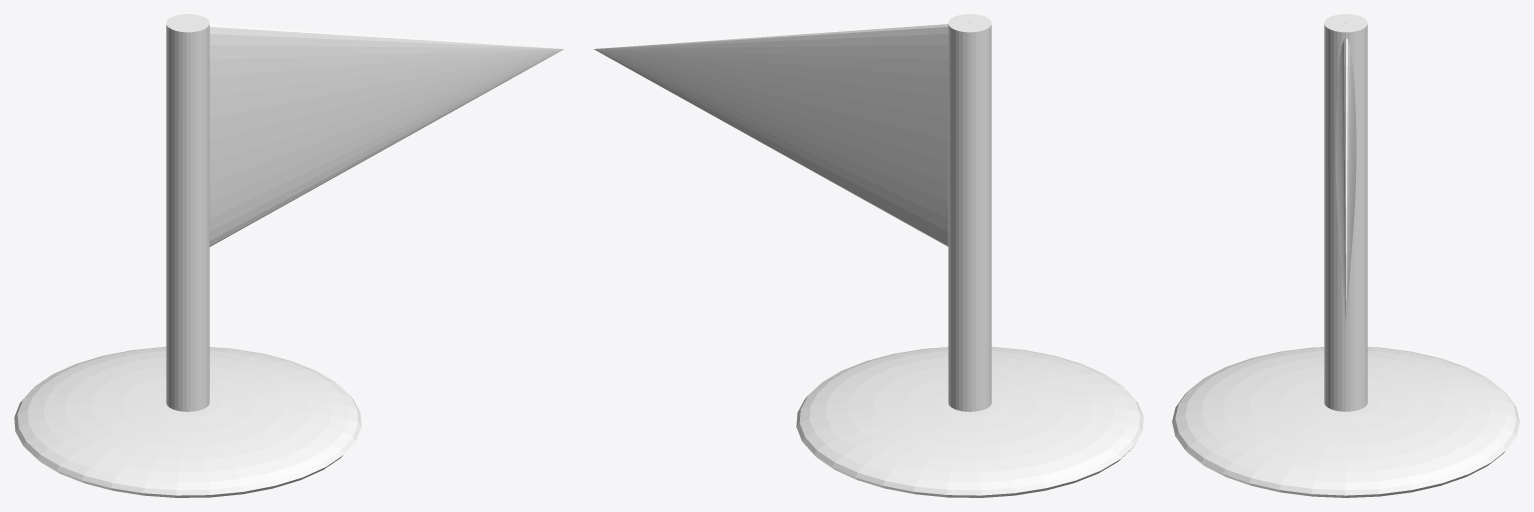
The model's file is goal.obj.
3 renders of one model, left to right at view 1: azimuth 30°, elevation 25°; view 2: azimuth 150°, elevation 25°; view 3: azimuth 270°, elevation 25°, orthographic.
Visible parts, largest first — view 1: 円錐; view 2: 円錐; view 3: 円錐.
Part boxes in pixels (bbox=[...]): 円錐: bbox=[14, 14, 563, 497]; 円錐: bbox=[594, 14, 1143, 497]; 円錐: bbox=[1172, 14, 1519, 497].
Size of the model in its own units: 2.8 by 2.13 by 1.6.
Materials: 1 (1 with a texture image).
